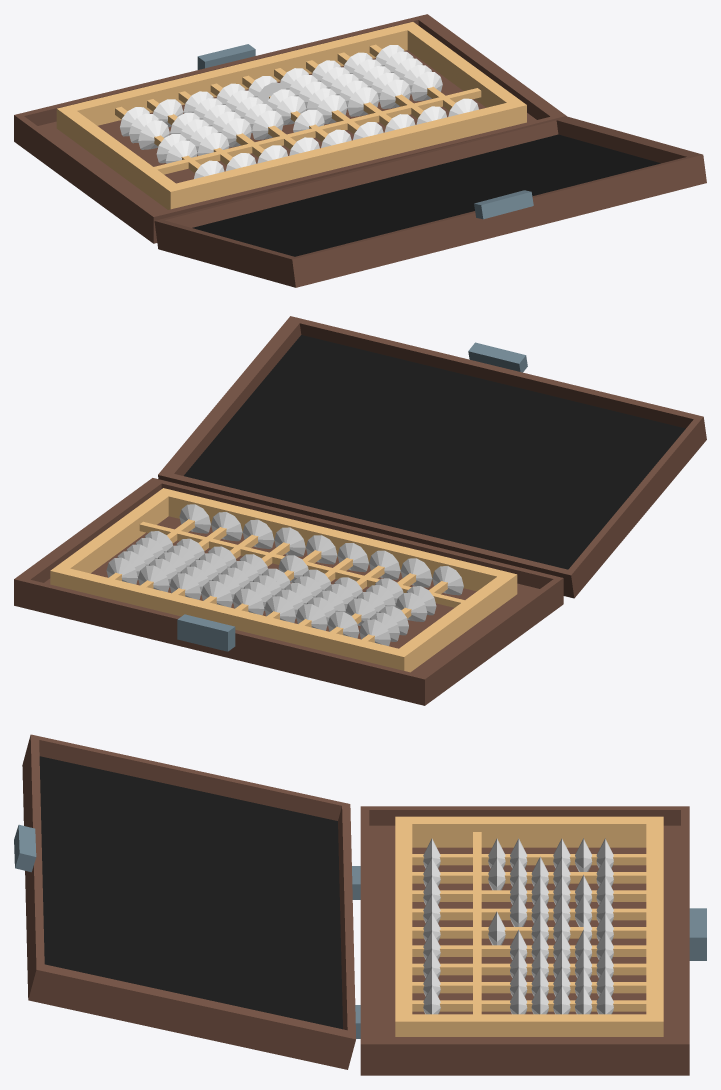
Rendered from abaco.glb.
3 views of the same model, one above another, from view 1: azimuth 30°, elevation 25°; view 2: azimuth 150°, elevation 25°; view 3: azimuth 270°, elevation 25° (orthographic). The views are drawn at different scales.
Visible parts, largest first — view 1: Node; view 2: Node; view 3: Node.
Part boxes in pixels (<box>): Node: <box>14,14,706,287</box>; Node: <box>14,316,706,705</box>; Node: <box>14,734,706,1075</box>.
Size of the model in its own units: 0.6552 by 0.1515 by 0.8001.
